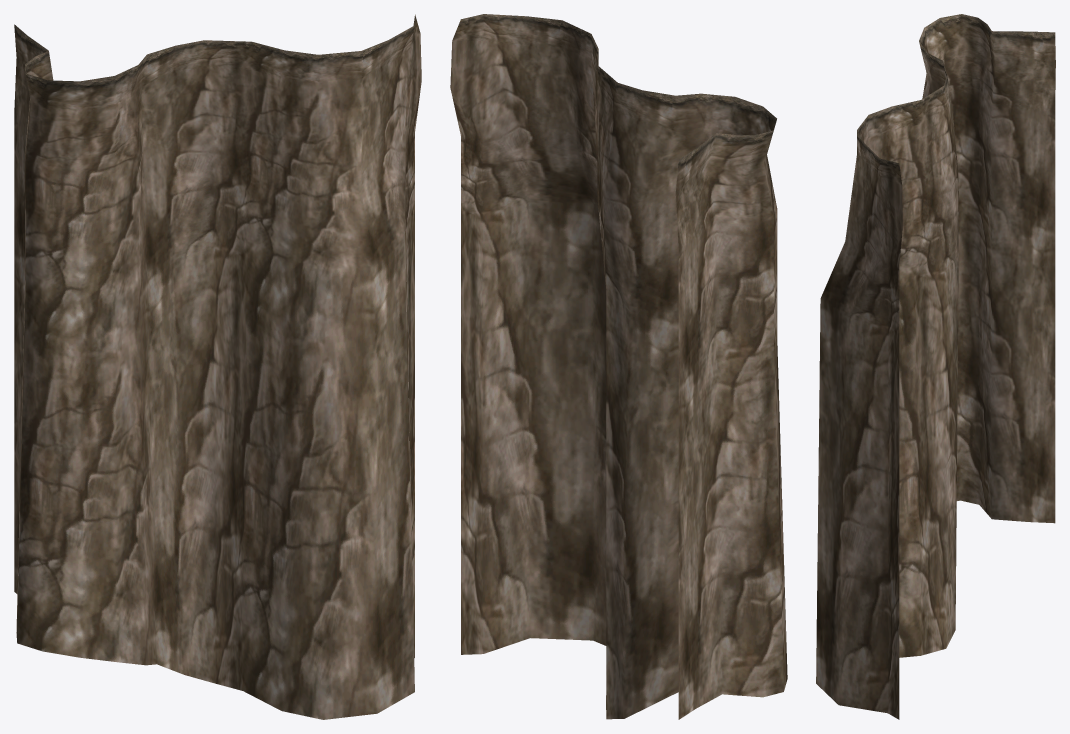
The model's file is OVERHILL_A_01_LINE68.fbx.
3 views of the same model, side by side, from view 1: azimuth 30°, elevation 25°; view 2: azimuth 150°, elevation 25°; view 3: azimuth 270°, elevation 25° (orthographic). The views are drawn at different scales.
Visible parts, largest first — view 1: OVERHILL_A_01_LINE68; view 2: OVERHILL_A_01_LINE68; view 3: OVERHILL_A_01_LINE68.
Part boxes in pixels (x1,y1,x2,y2): OVERHILL_A_01_LINE68: (14, 14, 421, 719); OVERHILL_A_01_LINE68: (450, 14, 787, 719); OVERHILL_A_01_LINE68: (816, 14, 1055, 719).
Size of the model in its own units: 103121 by 172186 by 66730.
2 materials, 2 textured.
